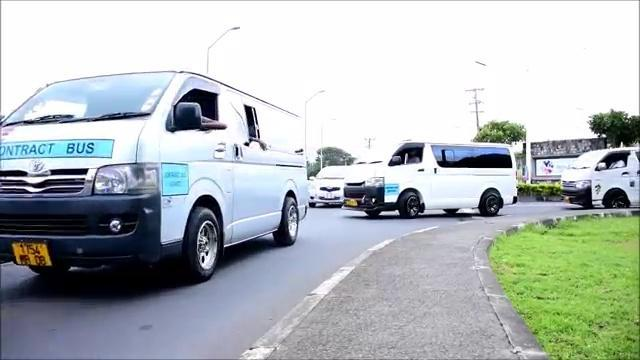van: (2, 64, 310, 280), (345, 140, 521, 221)
